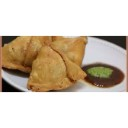samosa: (28, 41, 85, 89), (1, 36, 55, 71)
